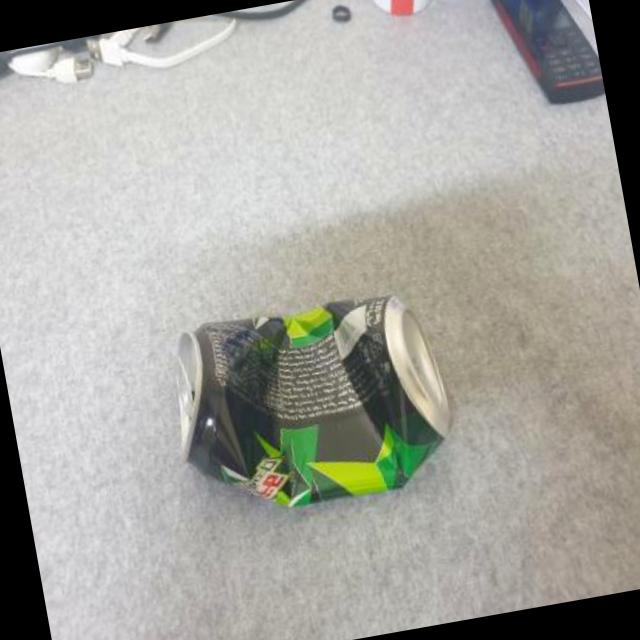metal: (179, 294, 452, 502)
